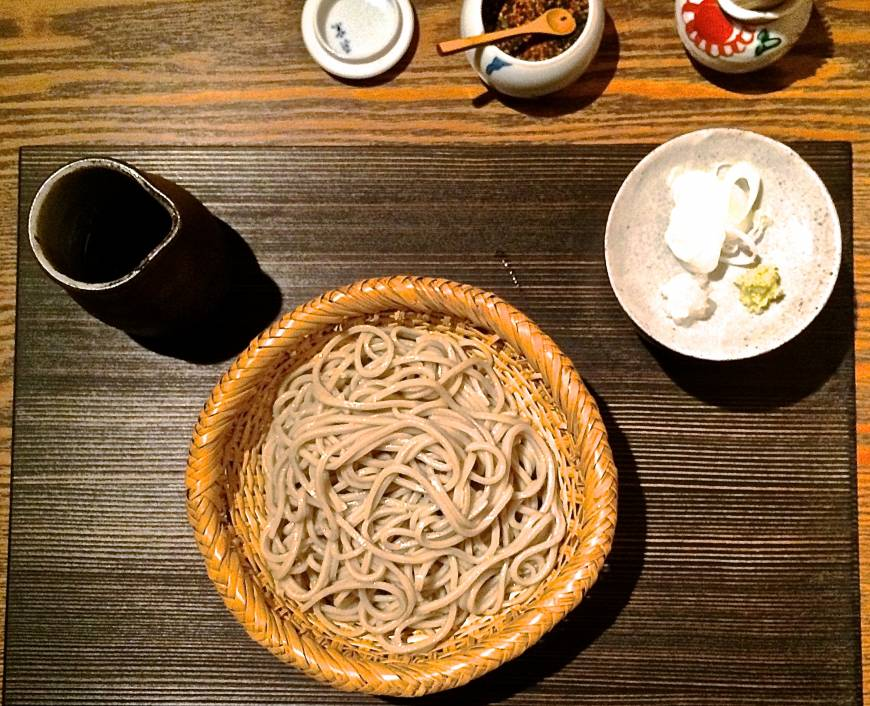Soba: (261, 322, 583, 644)
